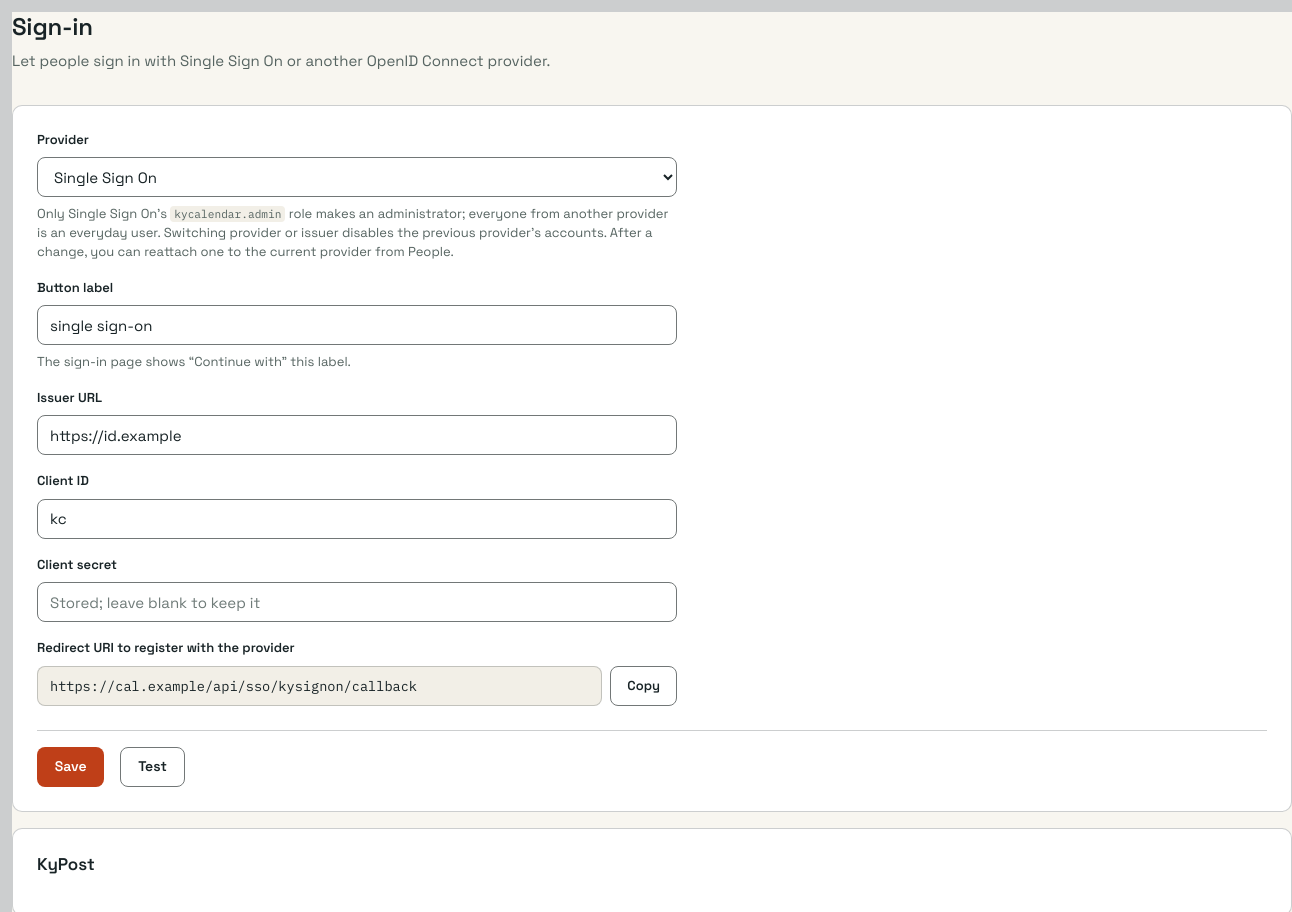
Test: SignIn › asks for a fresh sign-in when saving needs step-up
Click the button "Save". click: (71, 767)
box: [37,747,104,787]
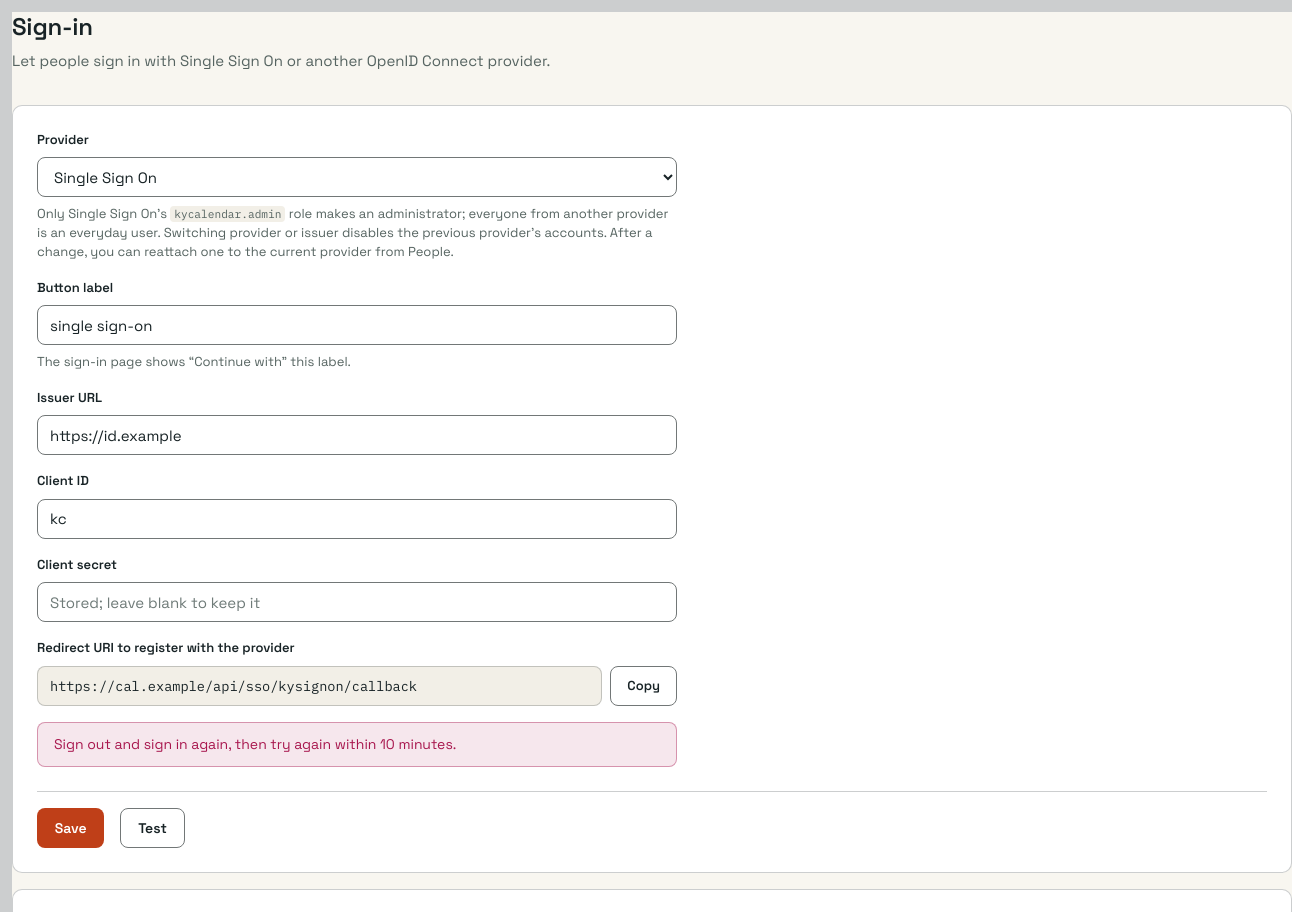
Result: the message shows "sign in again" at [54,735,456,753]
